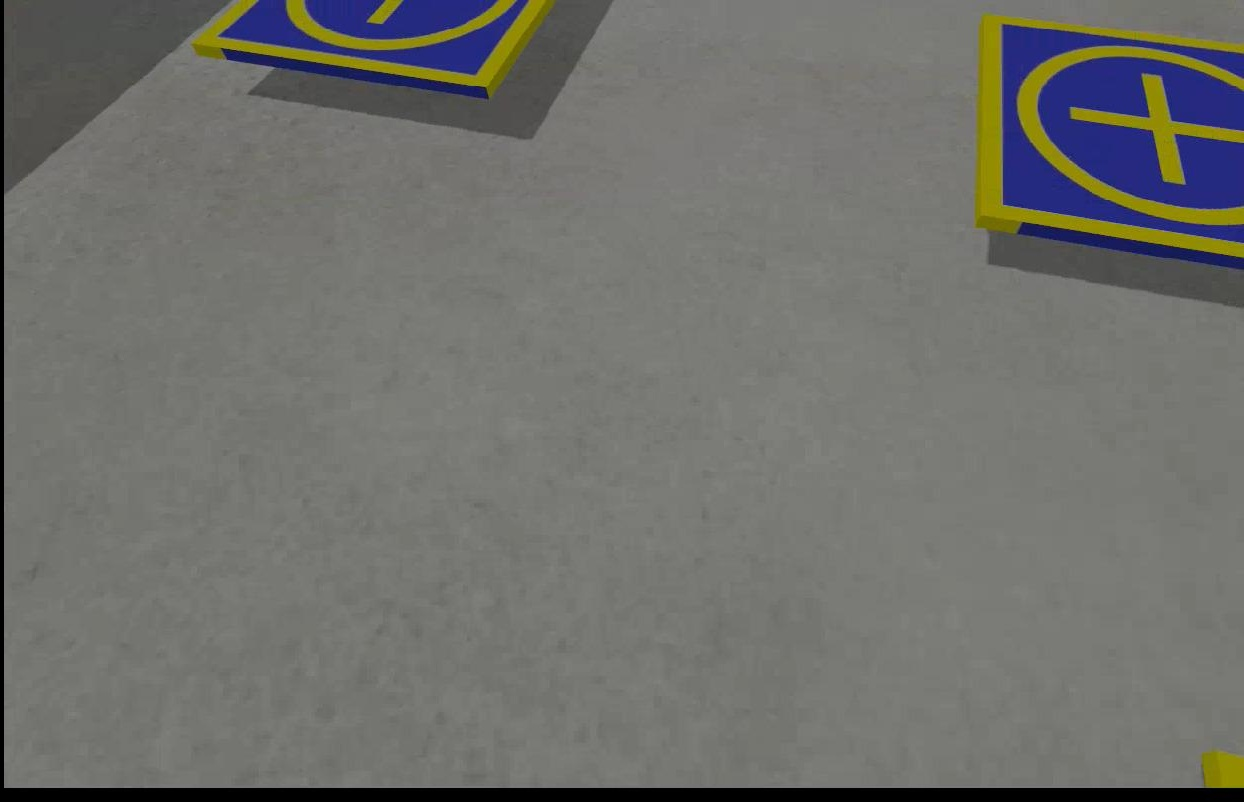small_base: (970, 12, 1242, 274), (190, 1, 553, 102)
